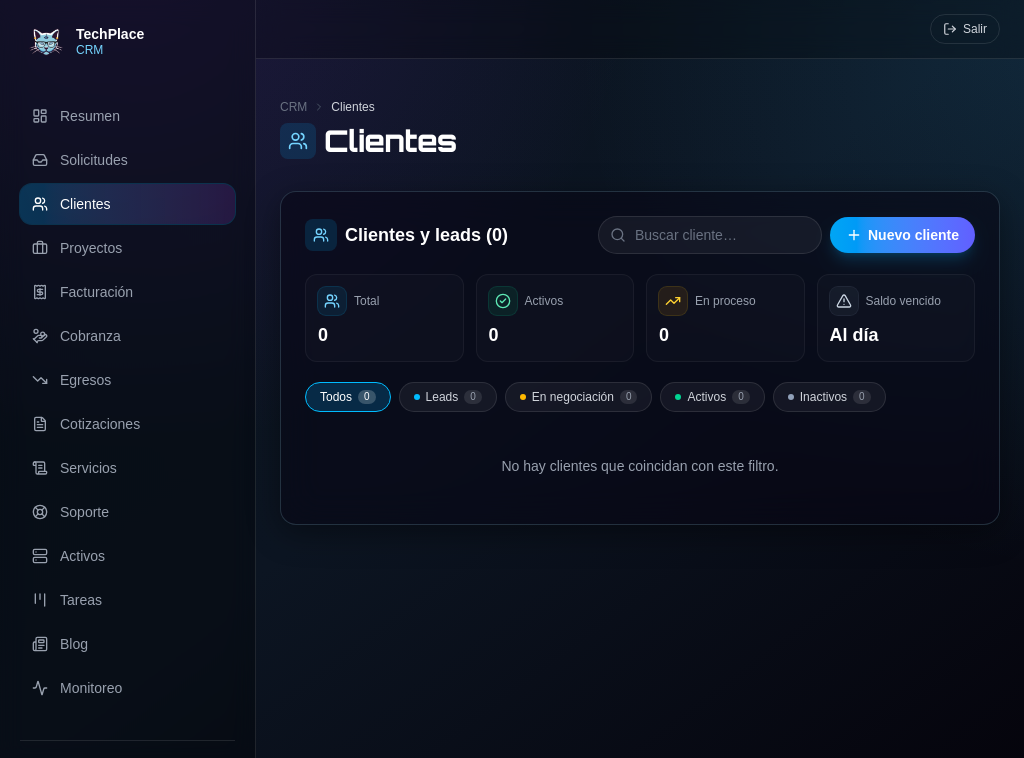
Test: CrmDashboard › switches to Proyectos when that nav item is clicked
Click the button "Proyectos". click: (128, 248)
box: [20,228,235,268]
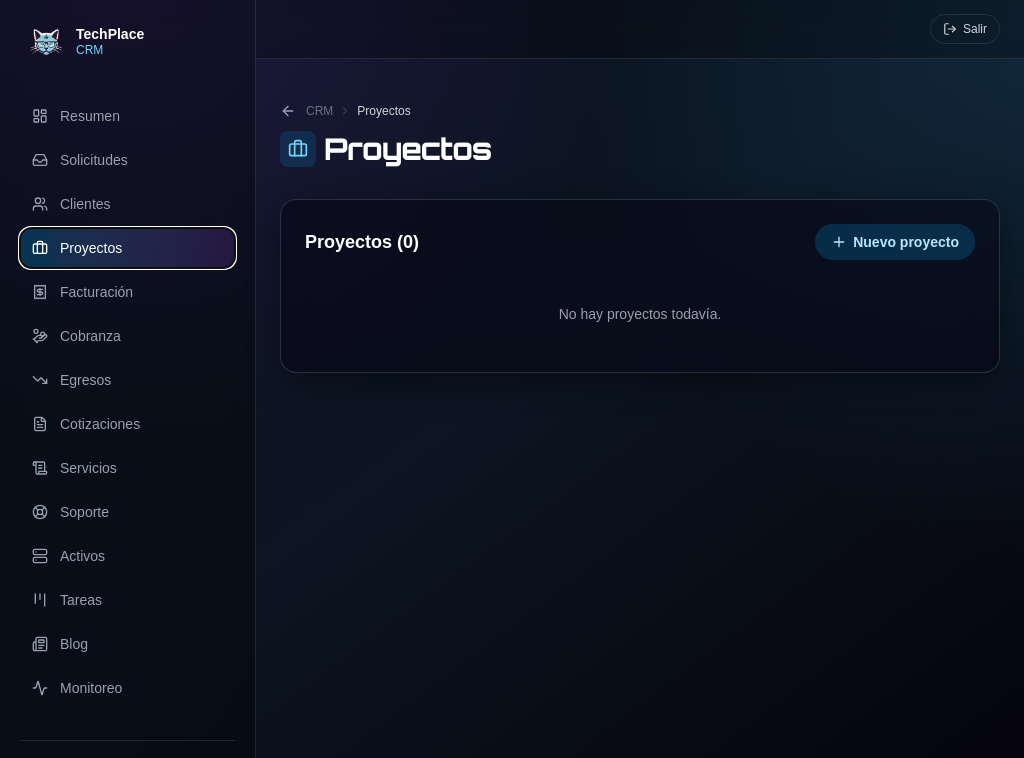
Expected: the heading "Proyectos (0)" is shown, [305,228,419,256]
